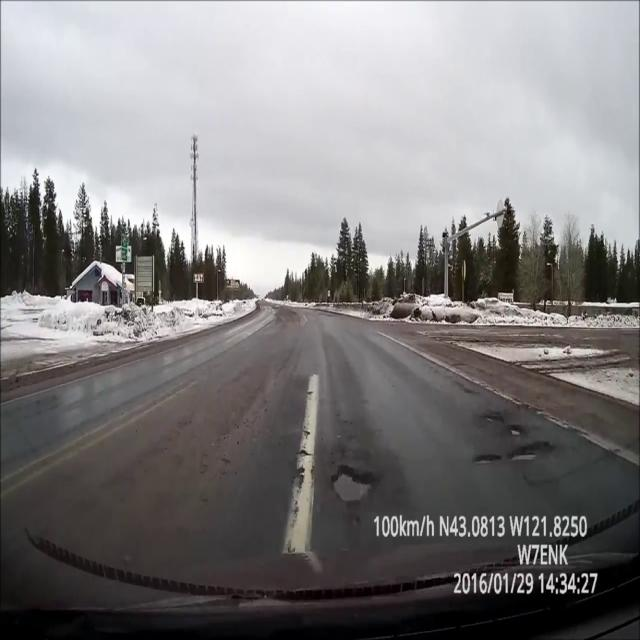Pothole: (327, 456, 378, 504), (509, 444, 556, 460), (474, 453, 504, 464), (512, 426, 527, 444), (485, 415, 506, 422)
